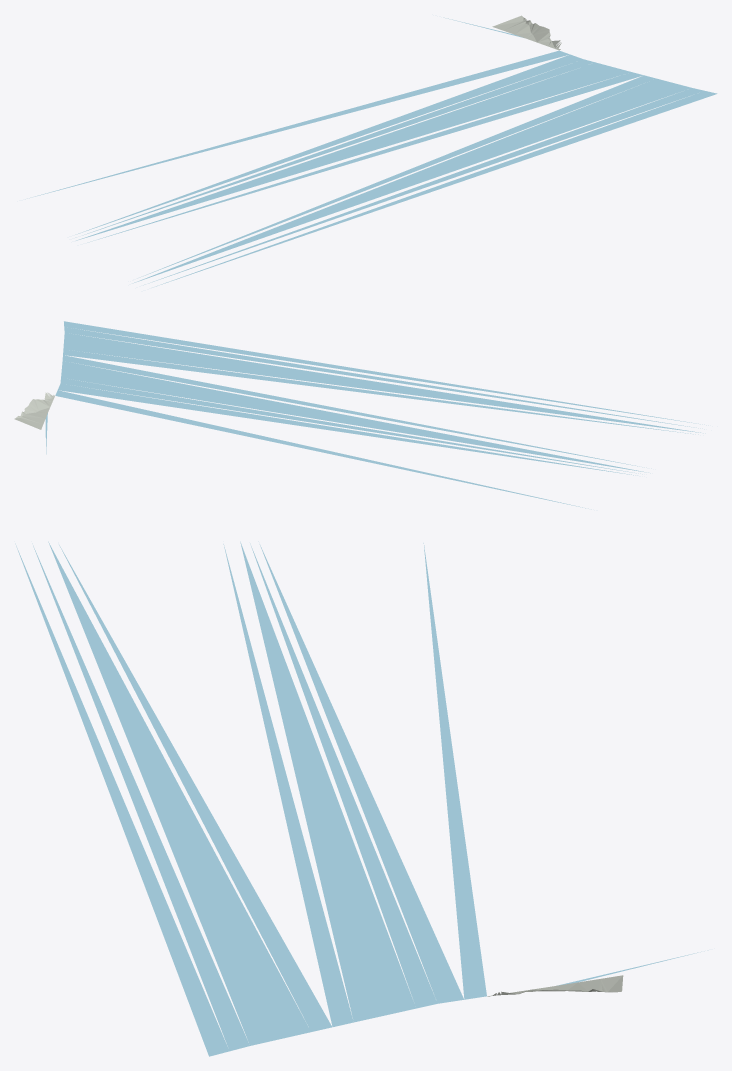
The model's file is terrain-context-C-x-1-z-2.glb.
The picture shows the model from 3 angles, top to bottom: view 1: azimuth 30°, elevation 25°; view 2: azimuth 150°, elevation 25°; view 3: azimuth 270°, elevation 25°; orthographic projection. The views are drawn at different scales.
Parts seen in each view (by area): view 1: C-x-1-z-2; view 2: C-x-1-z-2; view 3: C-x-1-z-2.
Part boxes in pixels (<box>): C-x-1-z-2: <box>25,15,717,287</box>; C-x-1-z-2: <box>14,321,708,509</box>; C-x-1-z-2: <box>15,541,708,1056</box>.
Bounding box in the file's own units: 253 × 2.74 × 146.
